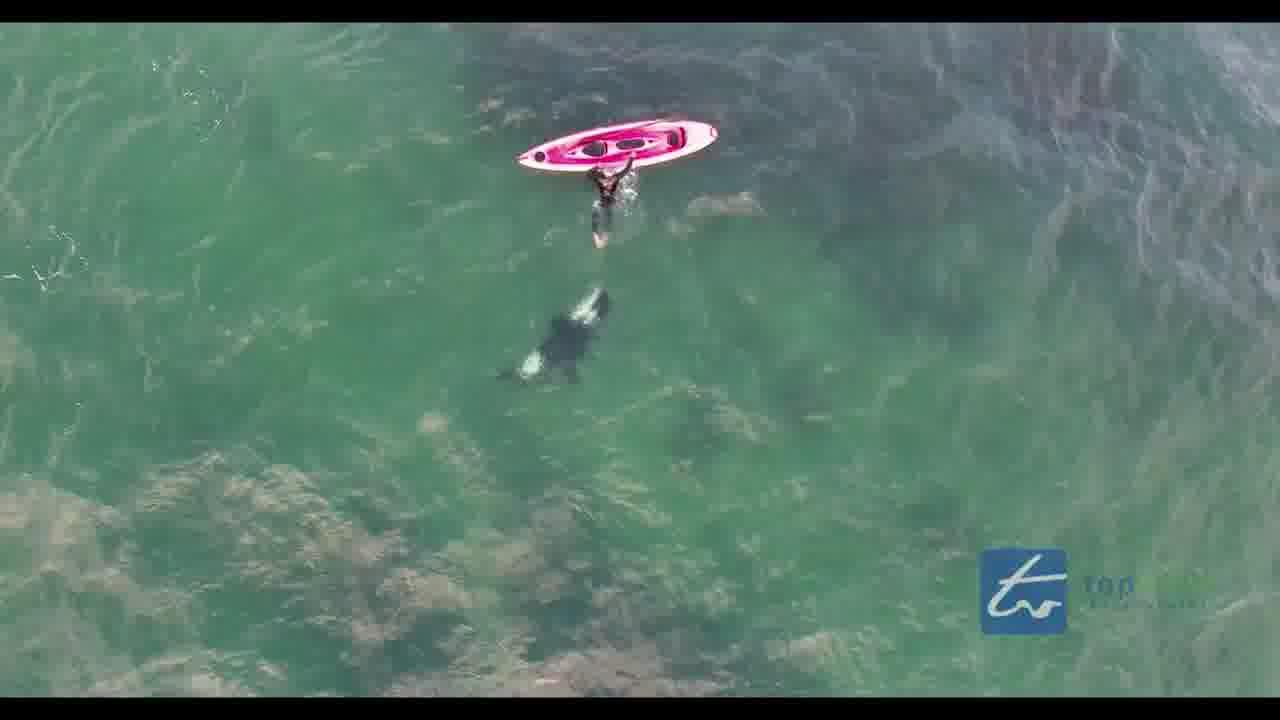human: (586, 161, 634, 252)
